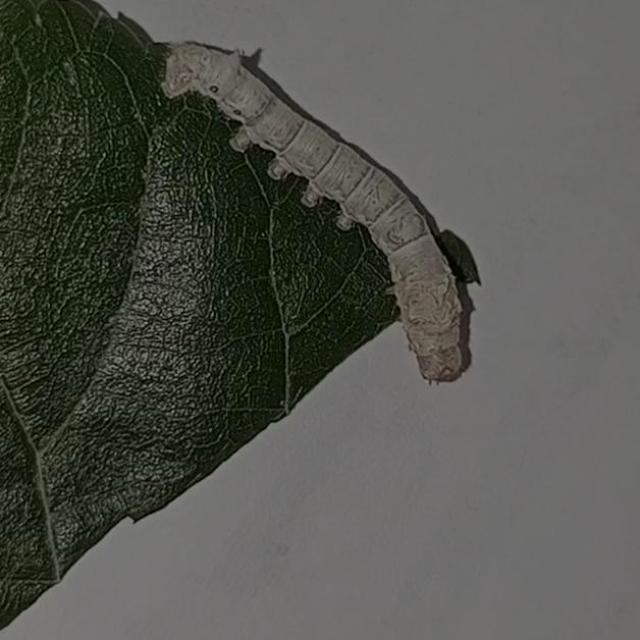Healthy: (143, 21, 491, 400)
